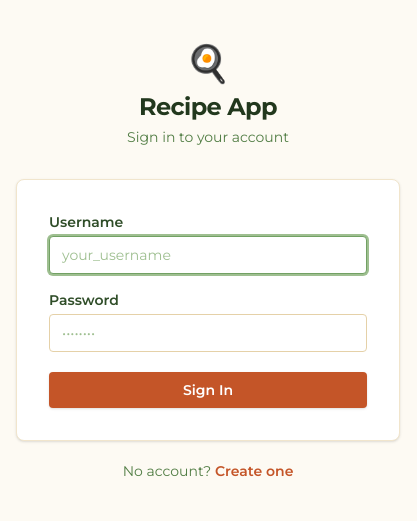
it: LoginPage › API error with no response.data.message — shows fallback text
The image size is (417, 521).
Type "alice" into the field with placeholder "your_username" at (208, 255), box [49, 236, 367, 274]
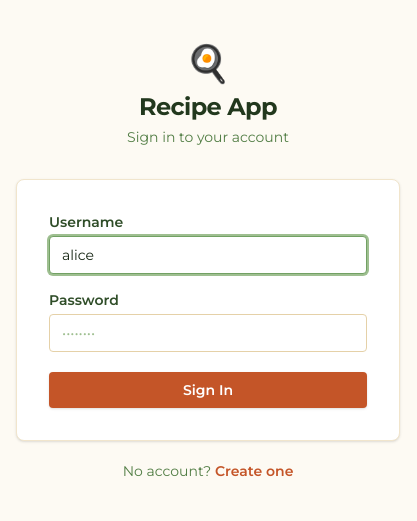
Type "pass" into the password field with placeholder "••••••••" at (208, 333), box [49, 314, 367, 352]
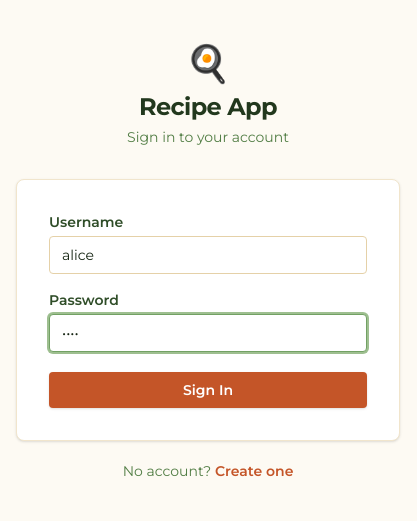
Click the button "Sign In" at (208, 390), box [49, 372, 367, 408]
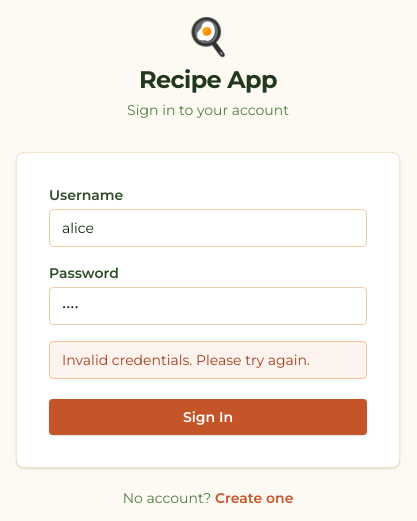
Expected: the text "Invalid credentials. Please try again." is shown, [49, 341, 367, 379]
